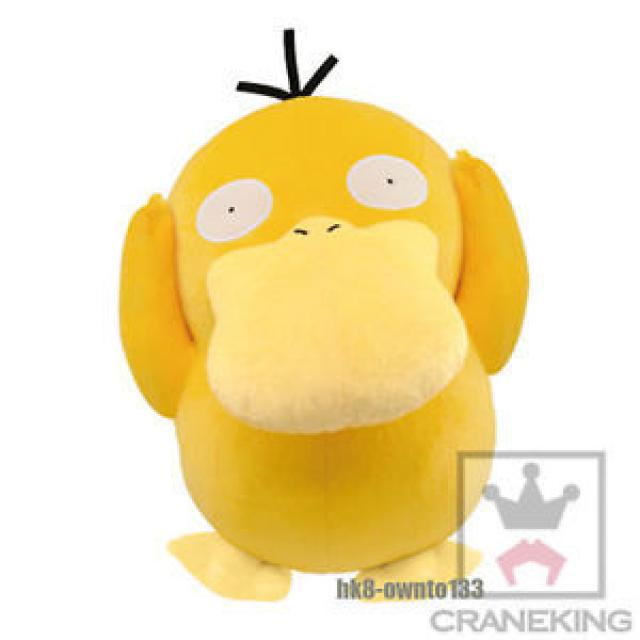Psyduck: (119, 94, 483, 599)
